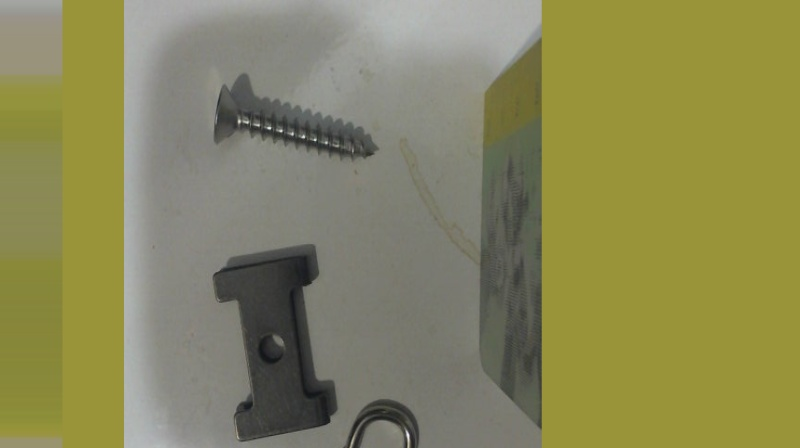O001: (279, 396, 420, 447)
O002: (209, 251, 329, 444)
S001: (209, 78, 375, 161)
